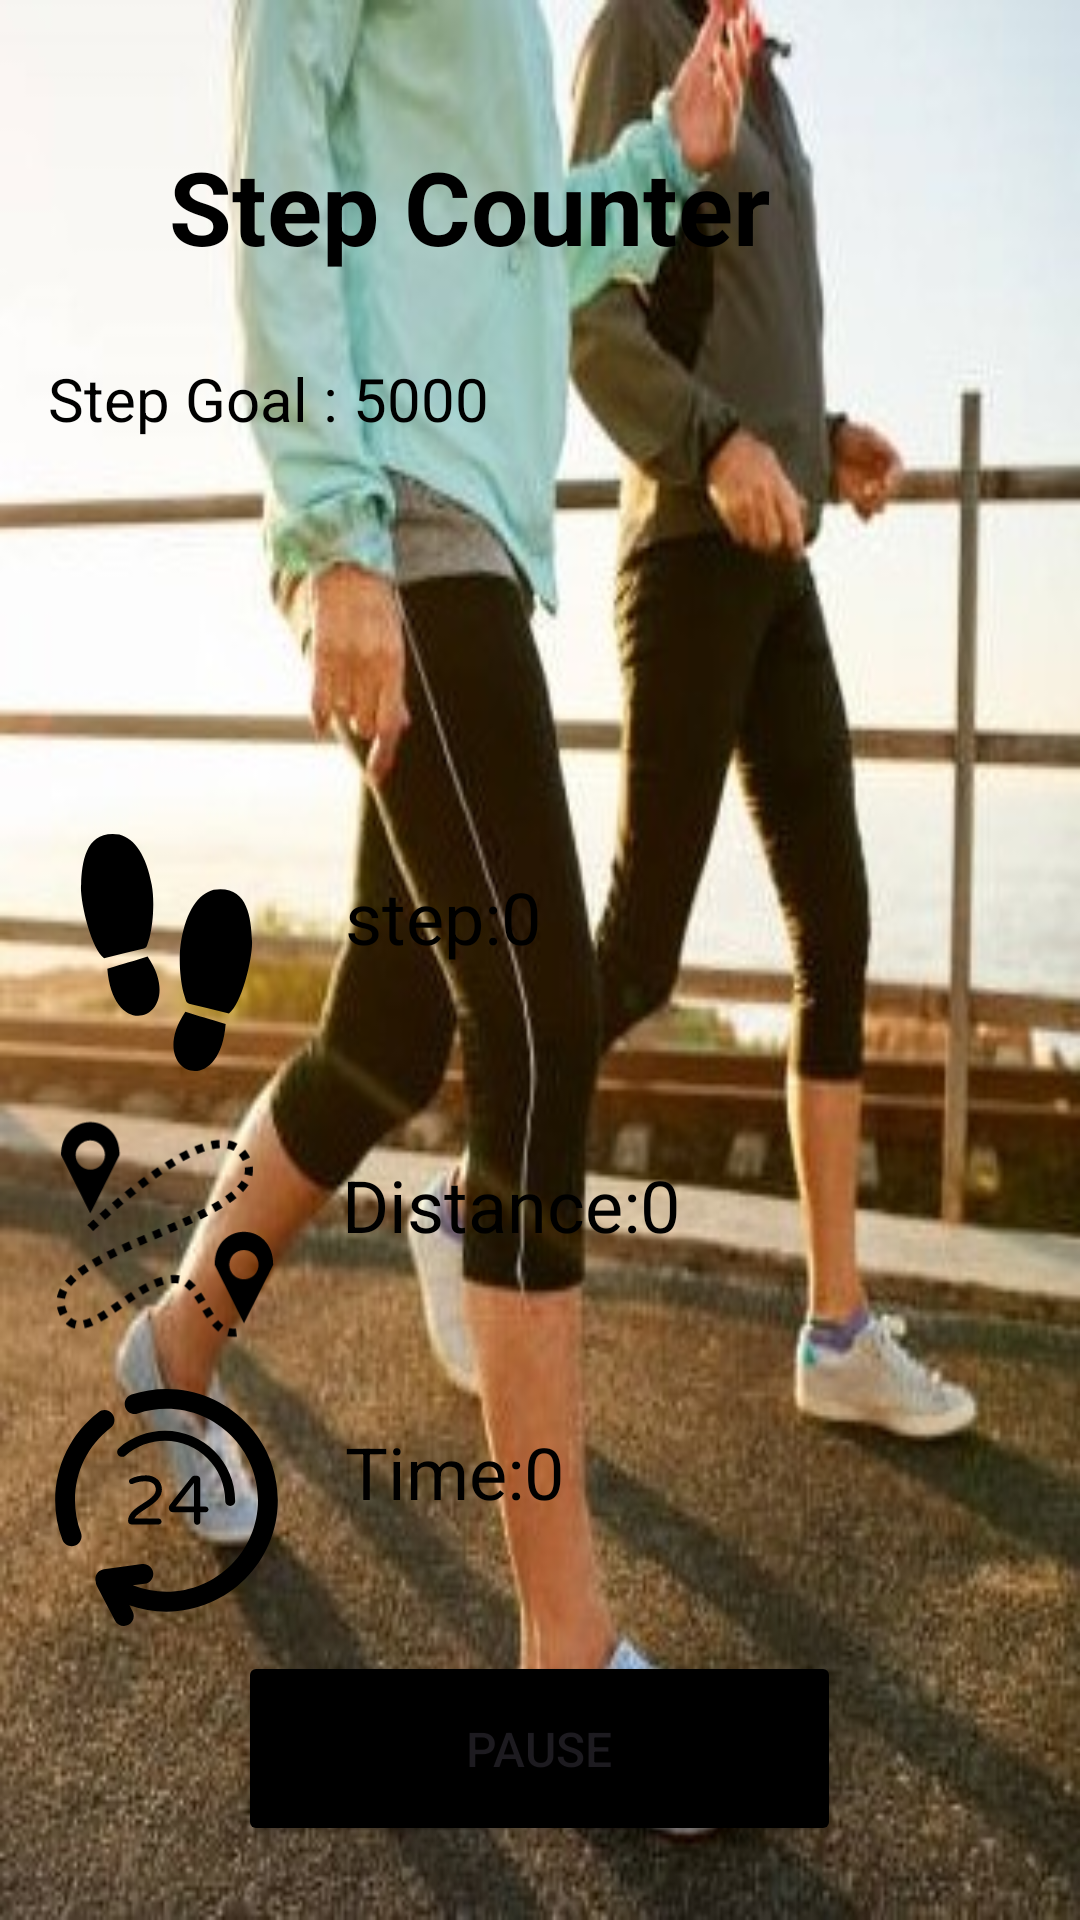

Where to tap for icons on this 1080px×1920px app screen, as (x,y):
footsteps silhouette variant: (166,952)
path distance: (165,1229)
